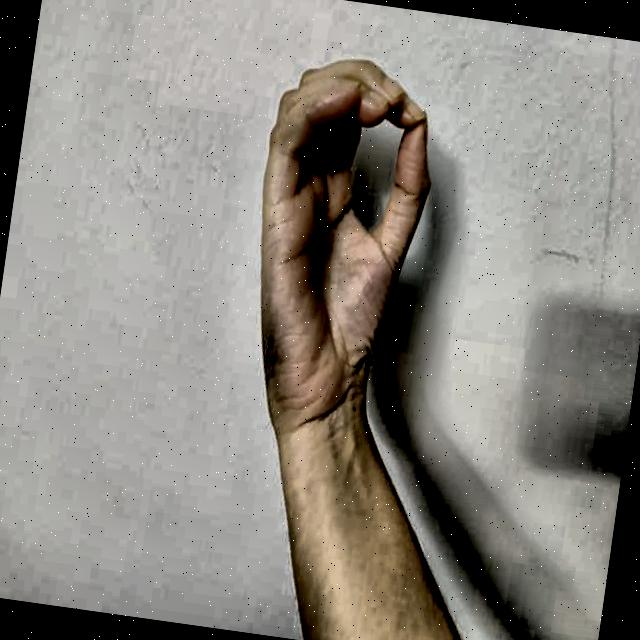O: (211, 27, 458, 451)
